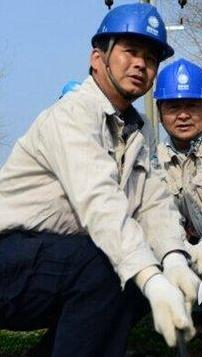gloves: (142, 271, 196, 347), (1, 1, 1, 1)
hard-hat: (90, 0, 173, 59)
ppe-suit: (153, 0, 178, 24)
